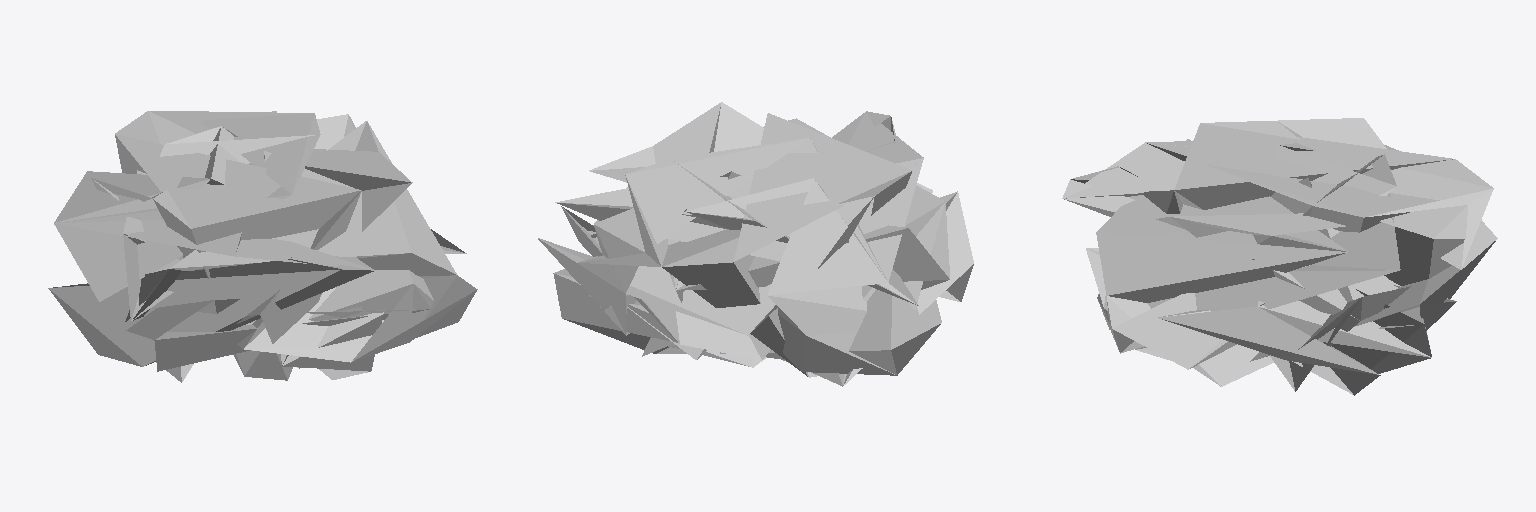
File: rock.obj
3 views of the same model, side by side, from view 1: azimuth 30°, elevation 25°; view 2: azimuth 150°, elevation 25°; view 3: azimuth 270°, elevation 25° (orthographic).
Size of the model in its own units: 3.18 by 1.68 by 3.63.